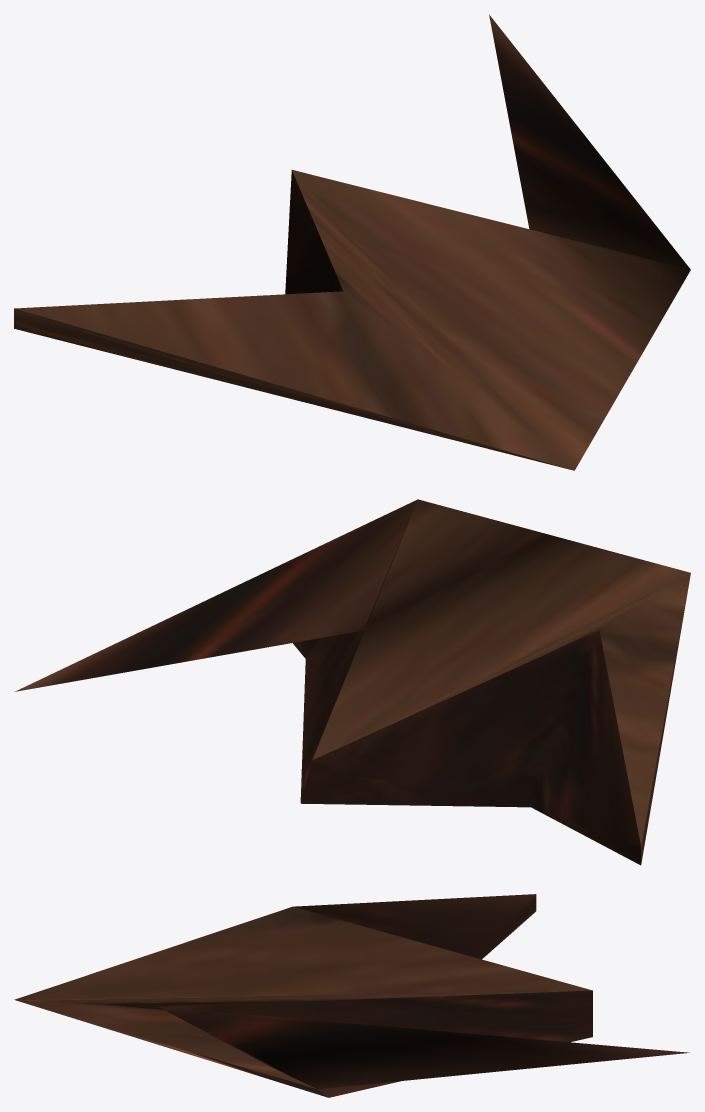
The model's file is PecaPonte2.fbx.
The picture shows the model from 3 angles, top to bottom: view 1: azimuth 30°, elevation 25°; view 2: azimuth 150°, elevation 25°; view 3: azimuth 270°, elevation 25°; orthographic projection. The views are drawn at different scales.
Parts seen in each view (by area): view 1: pCube8; view 2: pCube8; view 3: pCube8.
Part boxes in pixels (x1,y1,x2,y2): pCube8: [14, 14, 690, 470]; pCube8: [14, 499, 690, 865]; pCube8: [14, 894, 689, 1097].
Size of the model in its own units: 0.9545 by 0.2438 by 1.16.
